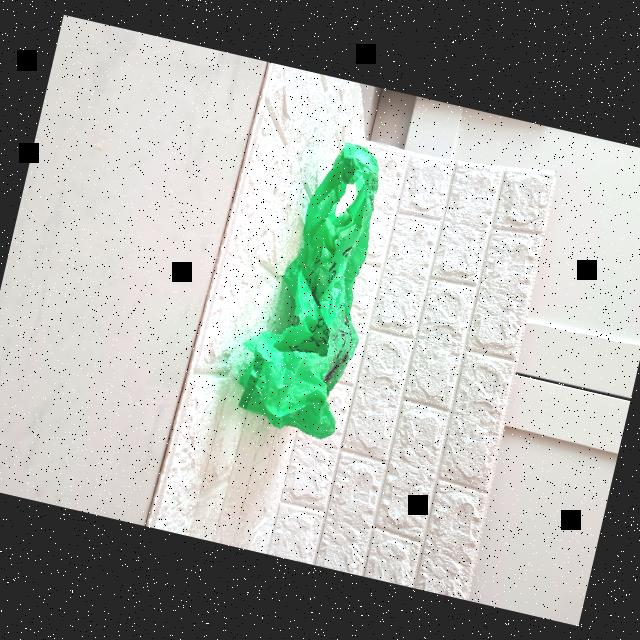plastic_bag: (228, 132, 402, 450)
